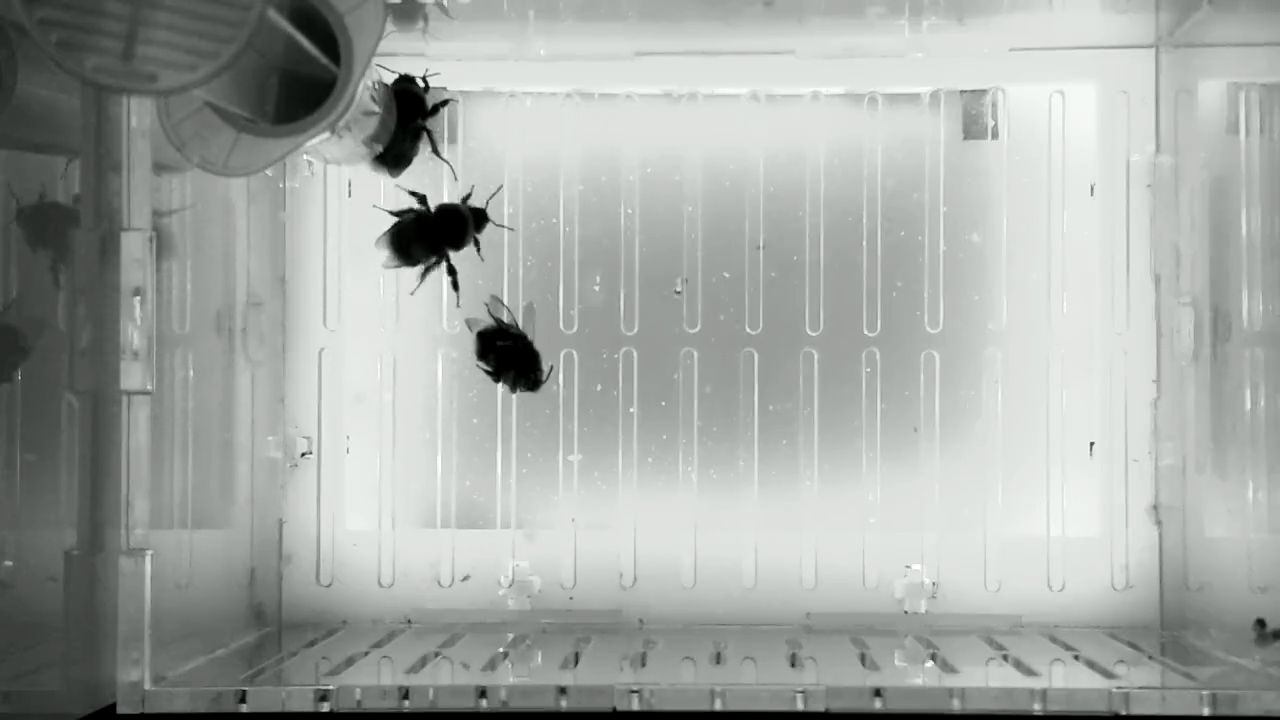bee_alive: (370, 178, 517, 309), (352, 58, 462, 184)
bee_dead: (456, 294, 557, 398)
feeder: (297, 58, 401, 170)
